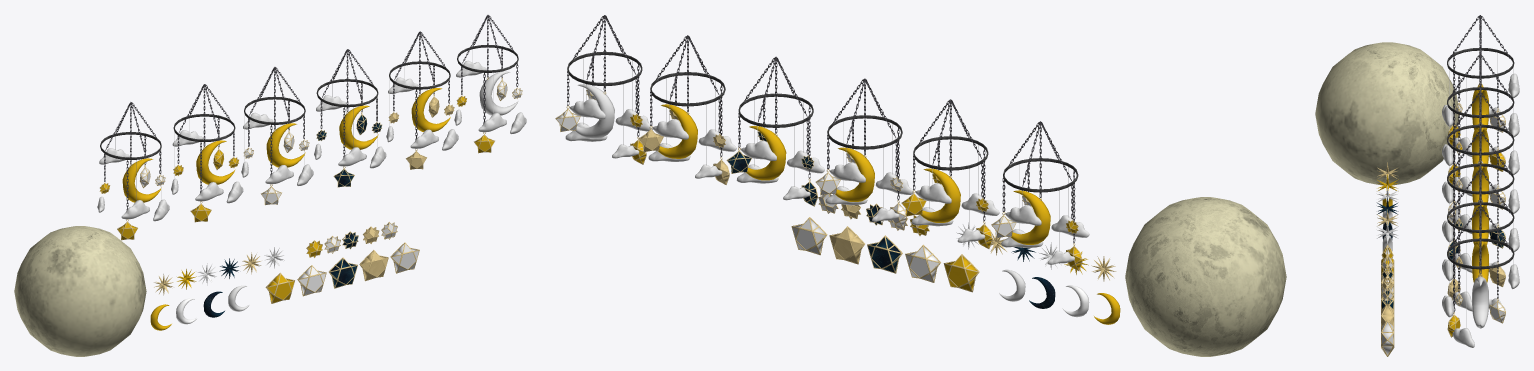
The model's file is Night Sky Interior_With gimmick.fbx.
3 views of the same model, side by side, from view 1: azimuth 30°, elevation 25°; view 2: azimuth 150°, elevation 25°; view 3: azimuth 270°, elevation 25° (orthographic). The views are drawn at different scales.
Visible parts, largest first — view 1: Full Moon, Mobile with animation, Mobile with animation_Night, Mobile with animation_Emission, Mobile with animation_Gold, Mobile with animation_yellow, Mobile with animation_White, Mobile with animation_yellow_Moon, Mobile with animation_Night_Moon, Mobile with animation_Moon, Mobile with animation_Emission_Moon, Mobile with animation_White_Moon (+6 smaller); view 2: Full Moon, Mobile with animation, Mobile with animation_Night, Mobile with animation_White, Mobile with animation_yellow, Mobile with animation_Gold, Mobile with animation_Emission, Mobile with animation_yellow_Moon, Mobile with animation_Emission_Moon, Mobile with animation_Moon, Mobile with animation_Night_Moon, Mobile with animation_Gold_Moon (+6 smaller); view 3: Full Moon, Mobile with animation_Emission, Mobile with animation_Gold, Mobile with animation_White, Mobile with animation_yellow, Mobile with animation, Mobile with animation_Night, Mobile with animation_Emission_Moon, Mobile with animation_Gold_Moon, Mobile with animation_White_Moon, Mobile with animation_yellow_Moon, Mobile with animation_Moon (+3 smaller).
Boxes of the visible parts, left/top/right/bottom form: Full Moon: left=14, top=226, right=146, bottom=356; Mobile with animation: left=97, top=102, right=169, bottom=240; Mobile with animation_Night: left=314, top=49, right=386, bottom=187; Mobile with animation_Emission: left=454, top=15, right=526, bottom=153; Mobile with animation_Gold: left=386, top=31, right=458, bottom=169; Mobile with animation_yellow: left=171, top=84, right=243, bottom=222; Mobile with animation_White: left=241, top=67, right=313, bottom=205; Mobile with animation_yellow_Moon: left=196, top=85, right=235, bottom=184; Mobile with animation_Night_Moon: left=339, top=51, right=378, bottom=149; Mobile with animation_Moon: left=122, top=103, right=161, bottom=202; Mobile with animation_Emission_Moon: left=479, top=16, right=518, bottom=115; Mobile with animation_White_Moon: left=266, top=68, right=305, bottom=167; Full Moon: left=1125, top=197, right=1286, bottom=356; Mobile with animation: left=991, top=121, right=1089, bottom=270; Mobile with animation_Night: left=726, top=56, right=824, bottom=206; Mobile with animation_White: left=815, top=78, right=913, bottom=228; Mobile with animation_yellow: left=901, top=99, right=999, bottom=248; Mobile with animation_Gold: left=638, top=35, right=736, bottom=184; Mobile with animation_Emission: left=555, top=15, right=653, bottom=164; Mobile with animation_yellow_Moon: left=921, top=103, right=960, bottom=222; Mobile with animation_Emission_Moon: left=575, top=19, right=614, bottom=138; Mobile with animation_Moon: left=1011, top=126, right=1050, bottom=244; Mobile with animation_Night_Moon: left=746, top=60, right=786, bottom=180; Mobile with animation_Gold_Moon: left=658, top=39, right=697, bottom=158; Full Moon: left=1315, top=42, right=1459, bottom=185; Mobile with animation_Emission: left=1442, top=205, right=1519, bottom=347; Mobile with animation_Gold: left=1442, top=169, right=1519, bottom=311; Mobile with animation_White: left=1442, top=92, right=1519, bottom=233; Mobile with animation_yellow: left=1442, top=54, right=1519, bottom=196; Mobile with animation: left=1442, top=15, right=1519, bottom=156; Mobile with animation_Night: left=1442, top=130, right=1519, bottom=272; Mobile with animation_Emission_Moon: left=1472, top=209, right=1488, bottom=328; Mobile with animation_Gold_Moon: left=1472, top=173, right=1488, bottom=282; Mobile with animation_White_Moon: left=1472, top=95, right=1488, bottom=206; Mobile with animation_yellow_Moon: left=1472, top=58, right=1488, bottom=168; Mobile with animation_Moon: left=1472, top=18, right=1488, bottom=129.
Size of the model in its own units: 9.45 by 3.27 by 2.82.
